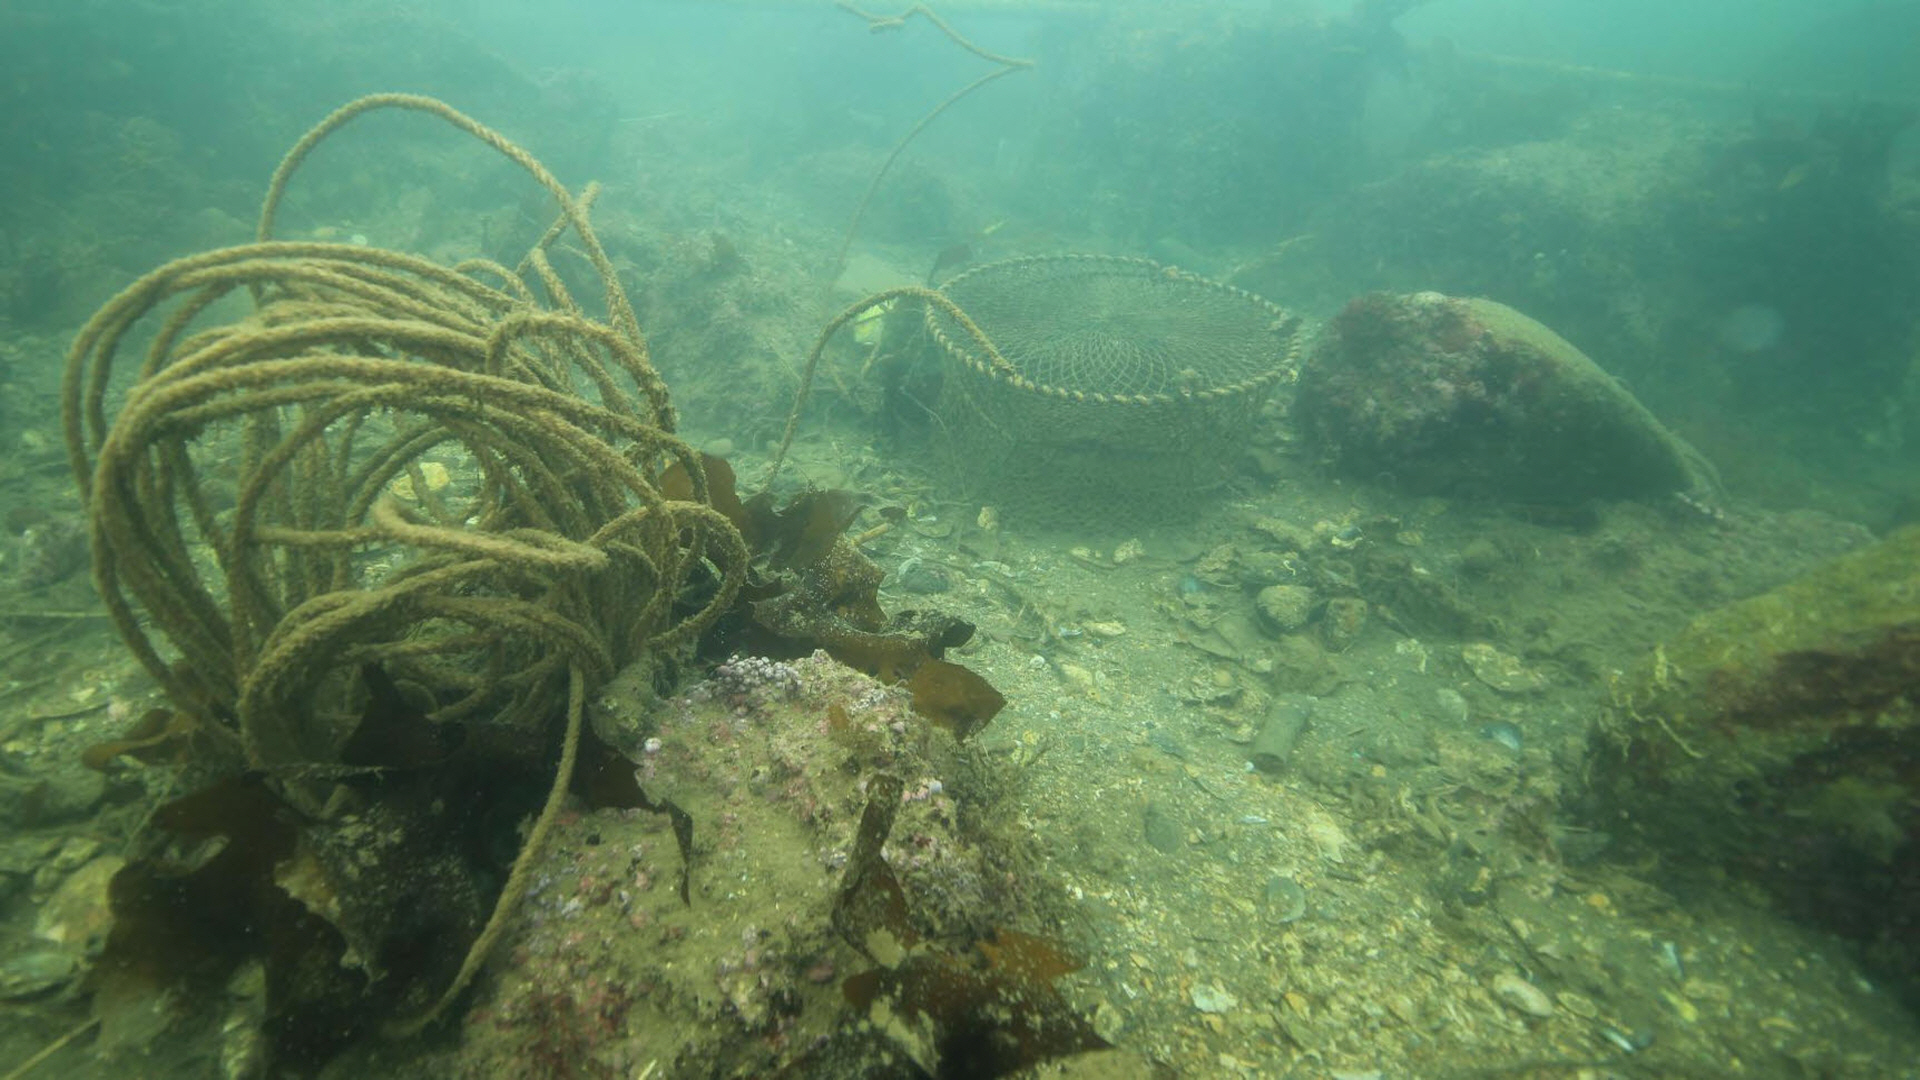bundle of ropes: (58, 84, 1033, 1047)
circular fish trap: (920, 248, 1302, 527)
rope: (822, 1, 1036, 287)
